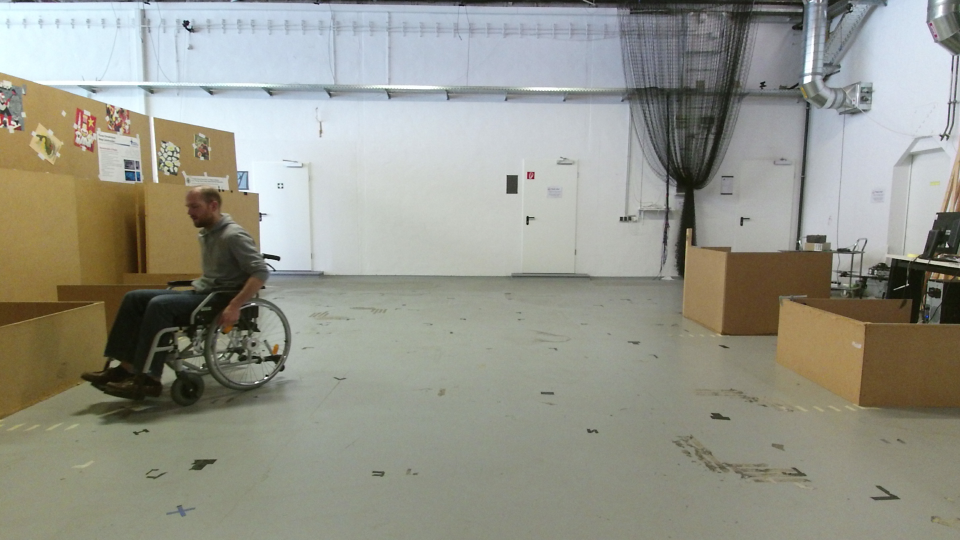wheelchair: (76, 184, 297, 414)
